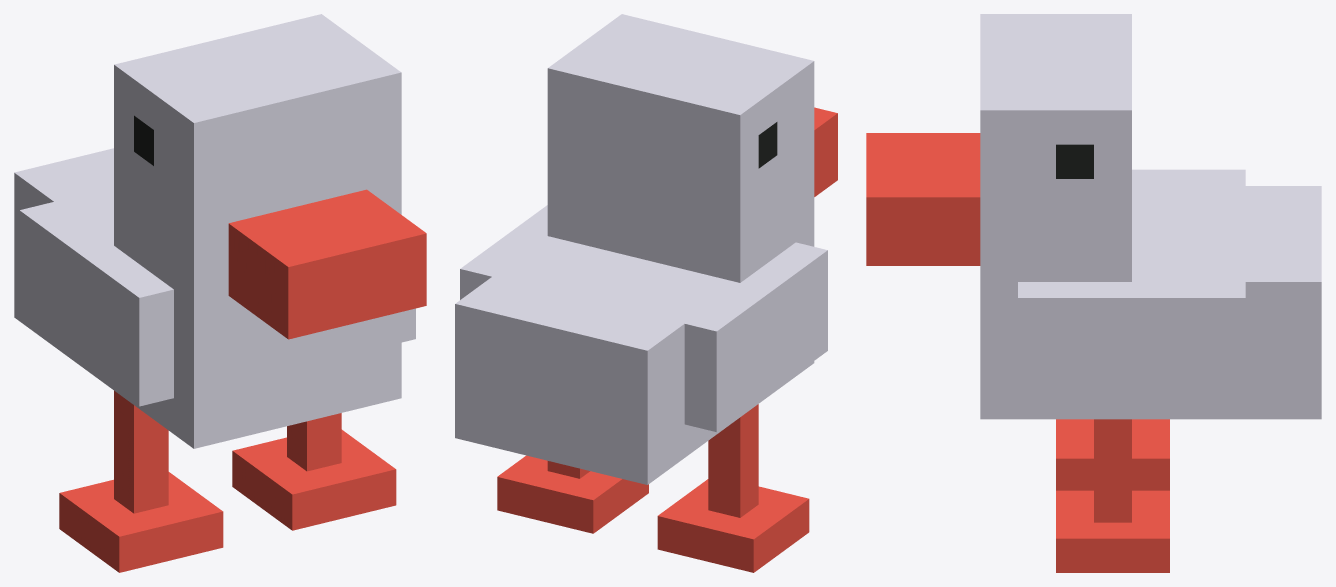
File: duck-transformed.glb
3 views of the same model, side by side, from view 1: azimuth 30°, elevation 25°; view 2: azimuth 150°, elevation 25°; view 3: azimuth 270°, elevation 25° (orthographic). The views are drawn at different scales.
Parts seen in each view (by area): view 1: node_id3; view 2: node_id3; view 3: node_id3.
Part boxes in pixels (<box>): node_id3: <box>14,14,426,572</box>; node_id3: <box>455,14,837,572</box>; node_id3: <box>866,14,1321,572</box>.
Bounding box in the file's own units: 0.3151 × 0.512 × 0.4726.
Materials: 1 (1 with a texture image).
